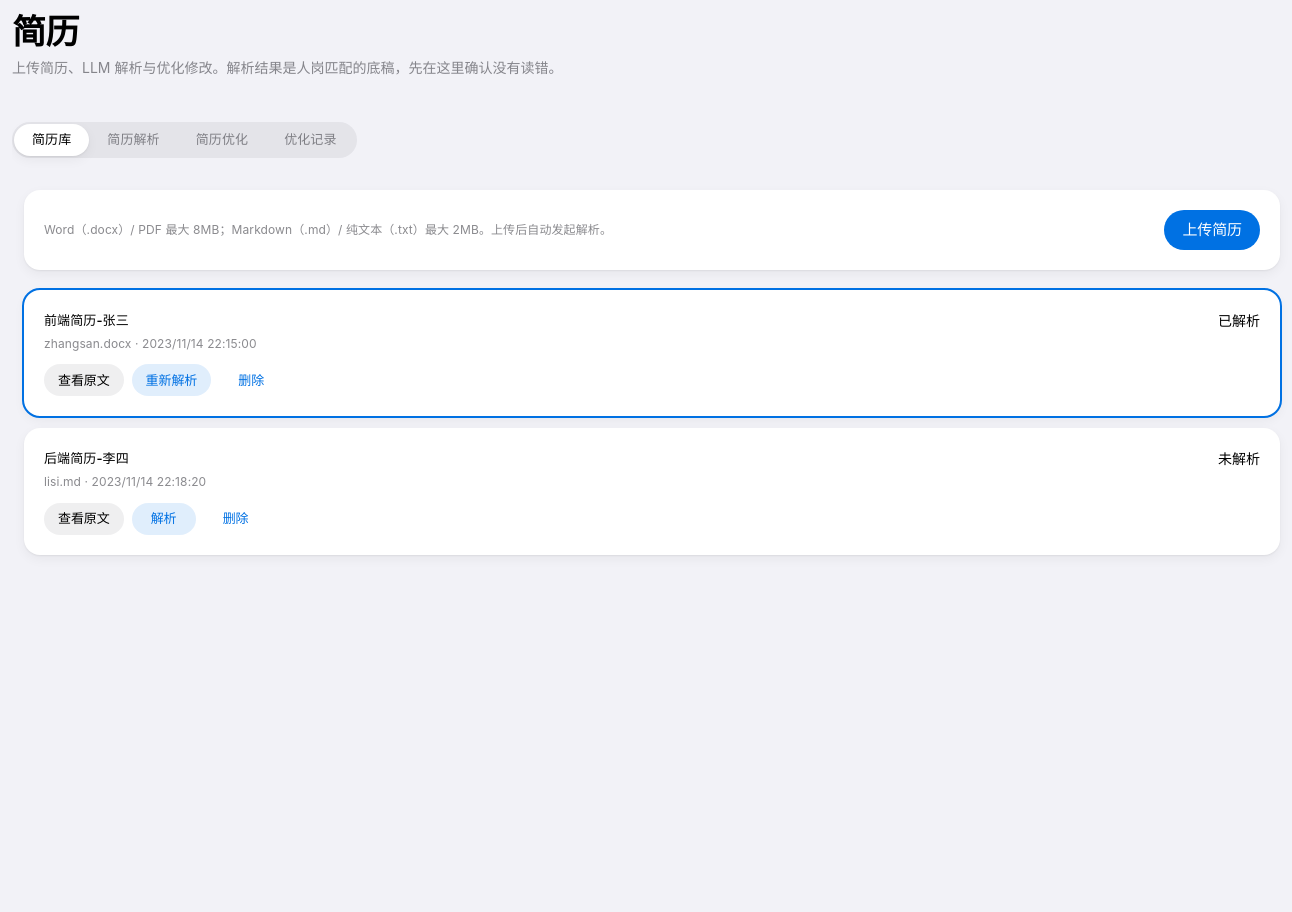
Test case: ResumesPage 简历解析 › 切过去按八段展示解析结果
The width and height of the screenshot is (1292, 912).
Check: the button with aria-label "查看原文「前端简历-张三」" is shown, box [44,364,124,396]
What coordinates should you click on to do the following:
click the radio button labelled "简历解析"
I would click on:
 (134, 140)
Its box is [89,124,178,156].
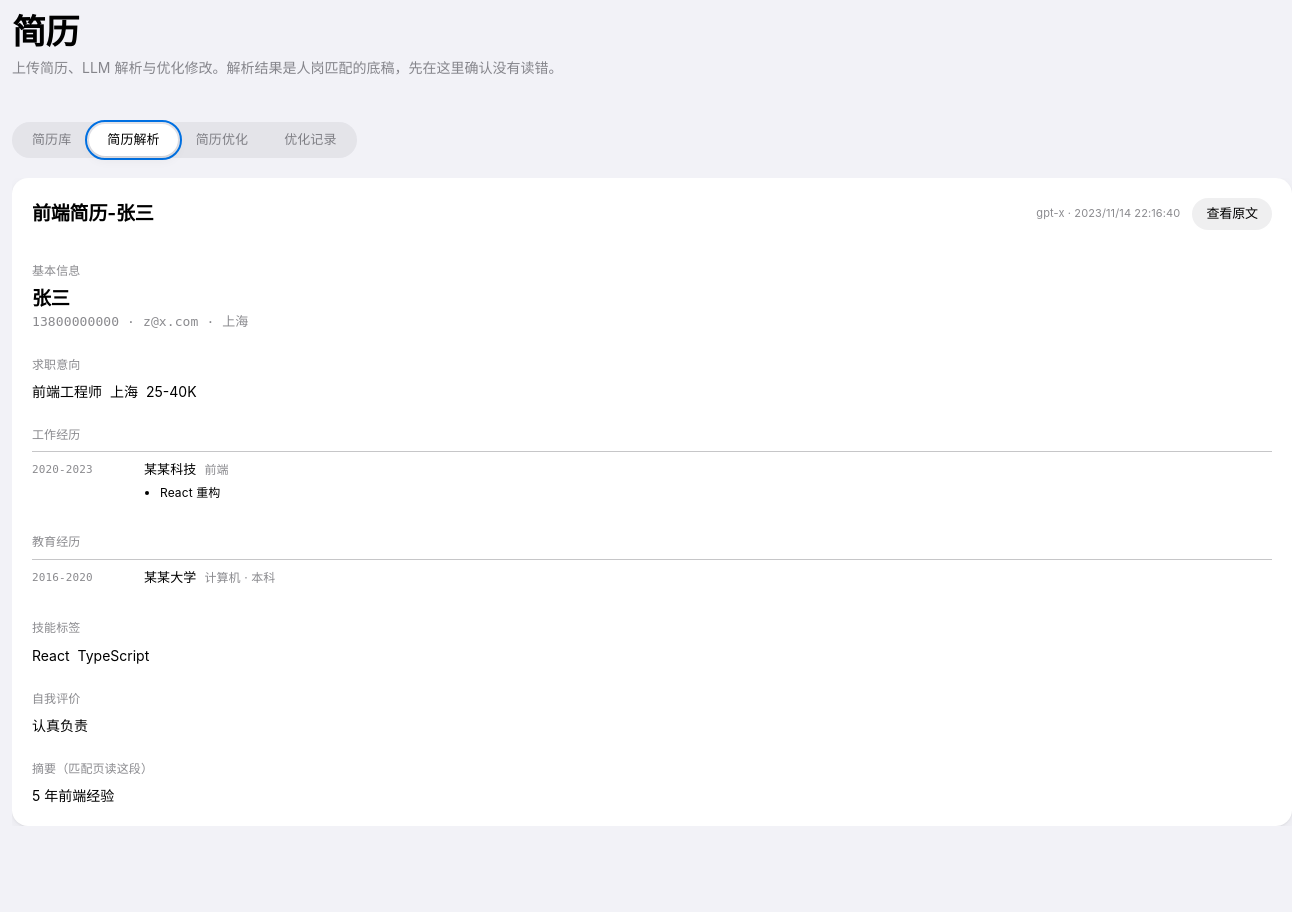
Check: the text "某某科技" is shown, box [144,460,196,480]
Check: the list item "React 重构" is shown, box [160,485,220,500]
Check: the text "5 年前端经验" is shown, box [32,787,114,804]
